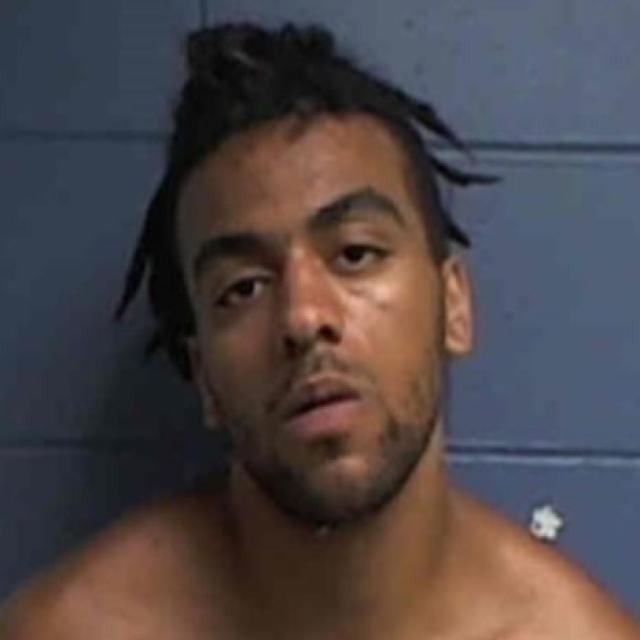human: (12, 0, 632, 640)
